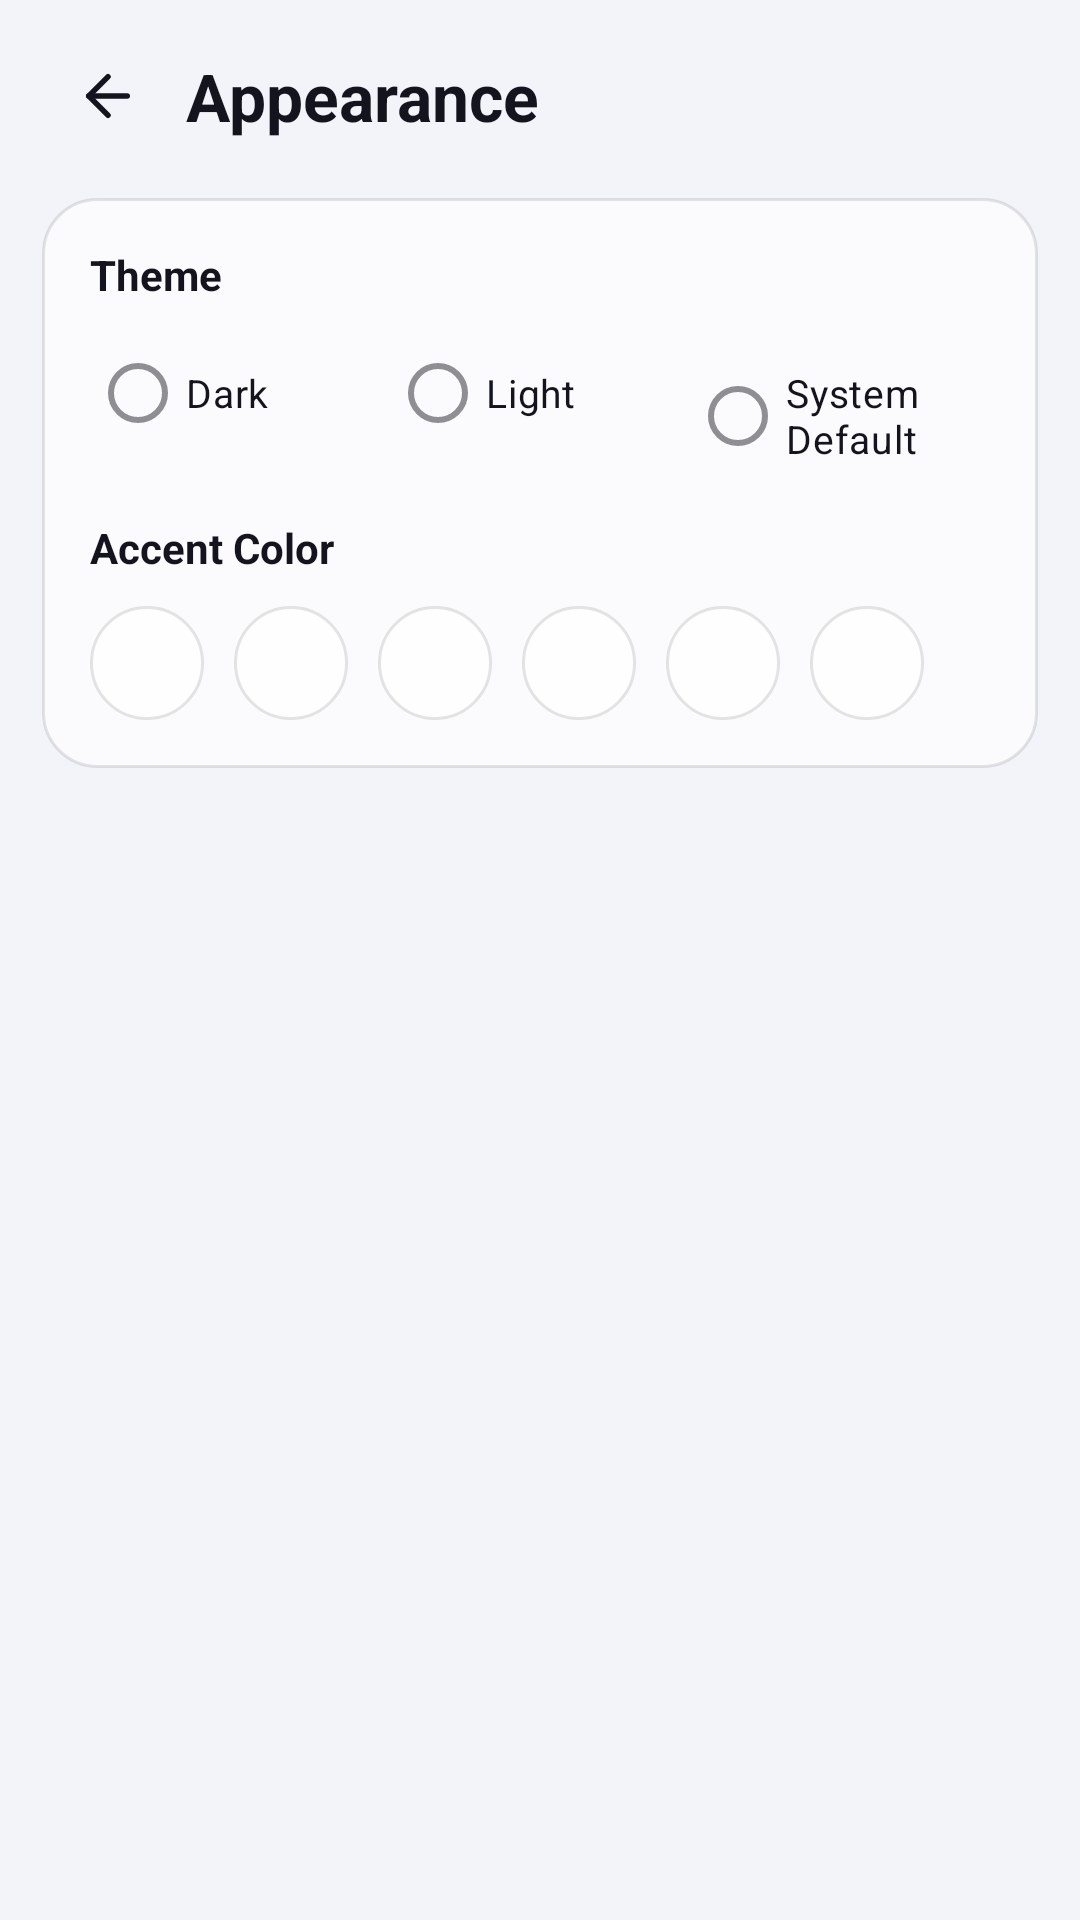

Icon click points for this 1080*1920 phone screenshot, format point (x, y):
arrow back: point (108, 96)
